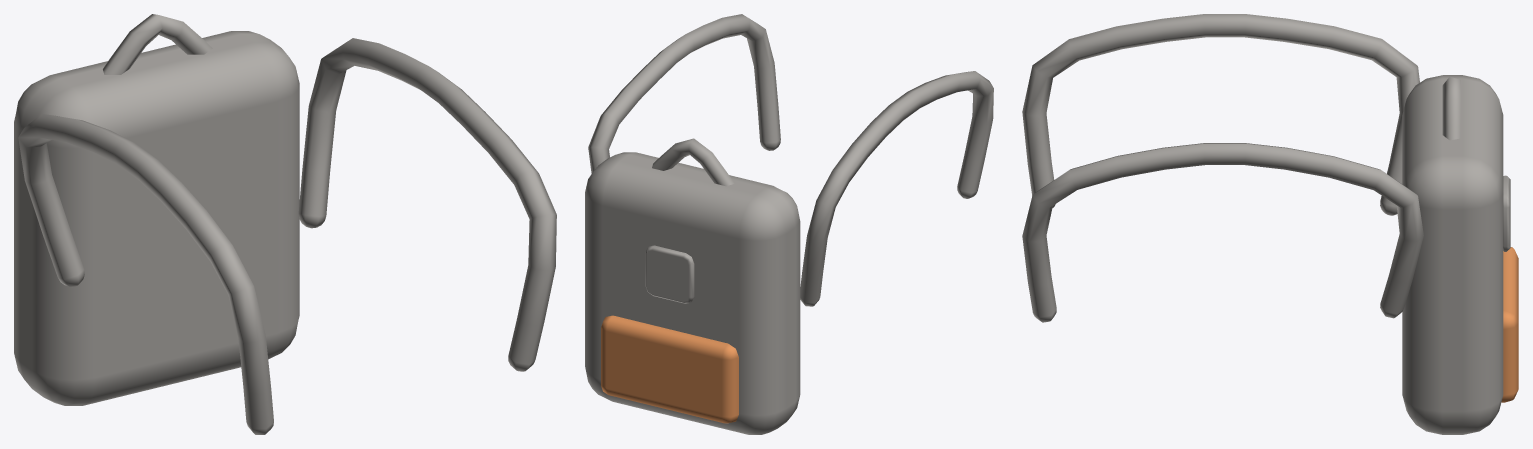
Rendered from checkered_backpack.glb.
3 renders of one model, left to right at view 1: azimuth 30°, elevation 25°; view 2: azimuth 150°, elevation 25°; view 3: azimuth 270°, elevation 25°, orthographic. The views are drawn at different scales.
Parts seen in each view (by area): view 1: checkered_backpack_Body; view 2: checkered_backpack_Body; view 3: checkered_backpack_Body.
Boxes of the visible parts, x1,y1,x2,y2 form: checkered_backpack_Body: [14, 14, 556, 434]; checkered_backpack_Body: [585, 14, 993, 434]; checkered_backpack_Body: [1022, 14, 1518, 434].
Bounding box in the file's own units: 0.327 × 0.3445 × 0.4902.
